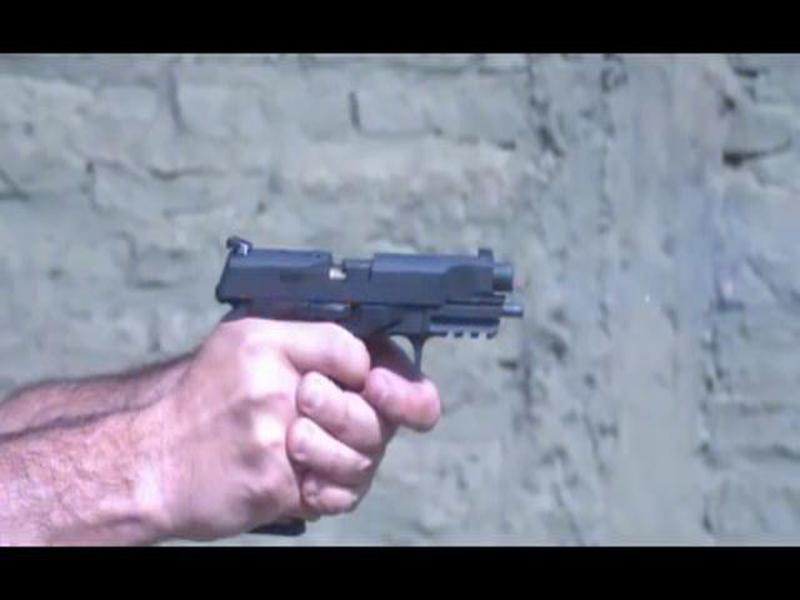Pistola: (189, 224, 523, 540)
